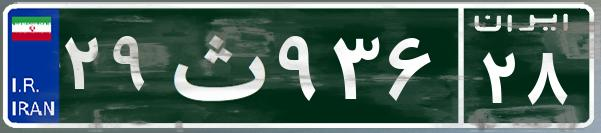2: (57, 26, 110, 107), (475, 38, 525, 113)
3: (330, 28, 385, 110)
6: (385, 28, 445, 110)
8: (525, 38, 570, 115)
9: (273, 28, 330, 110), (110, 28, 158, 105)
ث: (158, 15, 273, 115)
